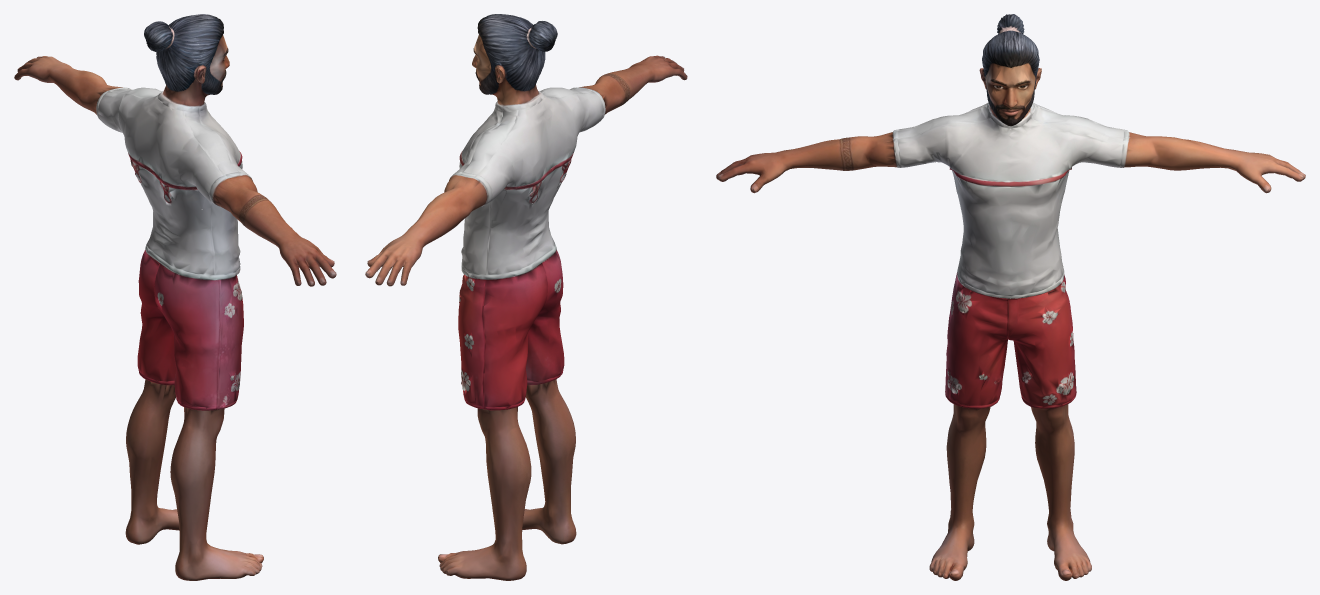
Rendered from the-islander.glb.
3 views of the same model, side by side, from view 1: azimuth 30°, elevation 25°; view 2: azimuth 150°, elevation 25°; view 3: azimuth 270°, elevation 25° (orthographic).
Parts seen in each view (by area): view 1: the-islander; view 2: the-islander; view 3: the-islander.
Part boxes in pixels (x1=…): the-islander: x1=14, y1=14, x2=336, y2=580; the-islander: x1=365, y1=14, x2=687, y2=580; the-islander: x1=716, y1=14, x2=1305, y2=580.
Size of the model in its own units: 0.1675 by 0.9756 by 0.9808.
1 material, 1 textured.
